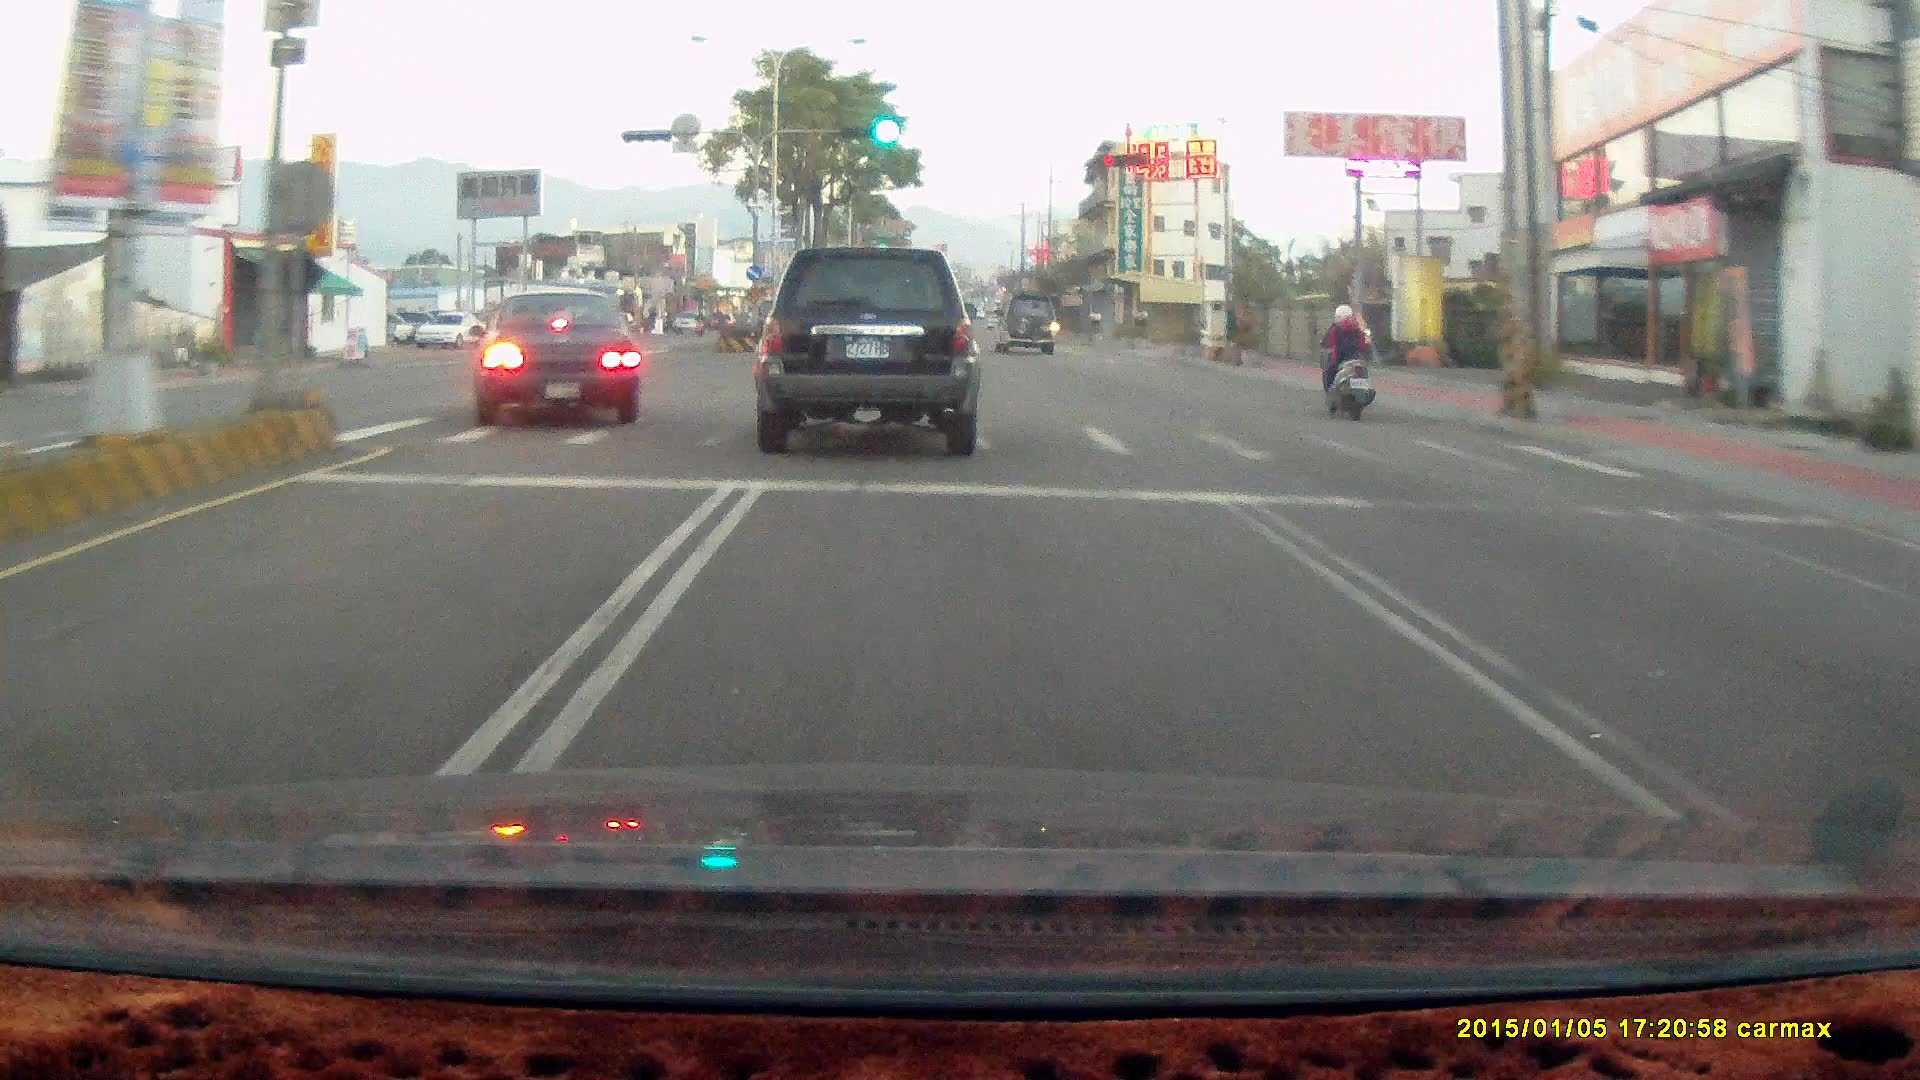rider: (1306, 295, 1389, 429), (1312, 298, 1375, 418)
vehicle: (752, 244, 980, 455), (757, 240, 984, 451), (468, 283, 641, 425), (467, 288, 639, 423), (994, 293, 1060, 360), (992, 279, 1057, 342), (413, 310, 487, 348)
